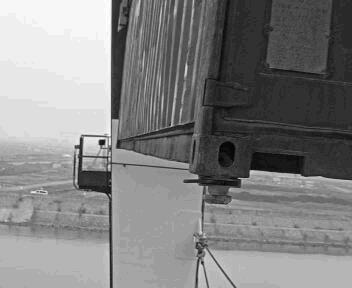twist_lock_1: (191, 173, 250, 213)
